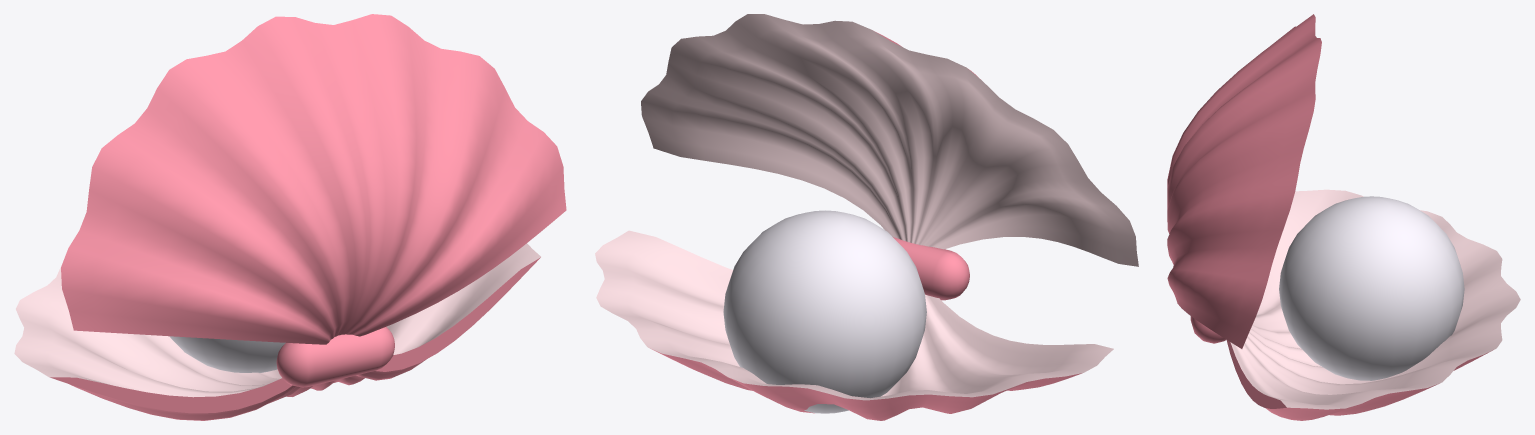
Rendered from SharkBaitPearl.obj.
The picture shows the model from 3 angles, left to right: view 1: azimuth 30°, elevation 25°; view 2: azimuth 150°, elevation 25°; view 3: azimuth 270°, elevation 25°; orthographic projection. The views are drawn at different scales.
Visible parts, largest first — view 1: Shell, ShellInside, Pearl; view 2: ShellInside, Pearl, Shell; view 3: Shell, Pearl, ShellInside.
Part boxes in pixels (left/top/right/bottom): Shell: left=50, top=14, right=566, bottom=420; ShellInside: left=14, top=243, right=540, bottom=397; Pearl: left=169, top=336, right=285, bottom=372; ShellInside: left=595, top=14, right=1138, bottom=400; Pearl: left=723, top=210, right=926, bottom=413; Shell: left=650, top=31, right=1082, bottom=420; Shell: left=1167, top=14, right=1492, bottom=420; Pearl: left=1279, top=196, right=1464, bottom=380; ShellInside: left=1230, top=189, right=1520, bottom=409.
Size of the model in its own units: 2.24 by 1.62 by 1.52.
